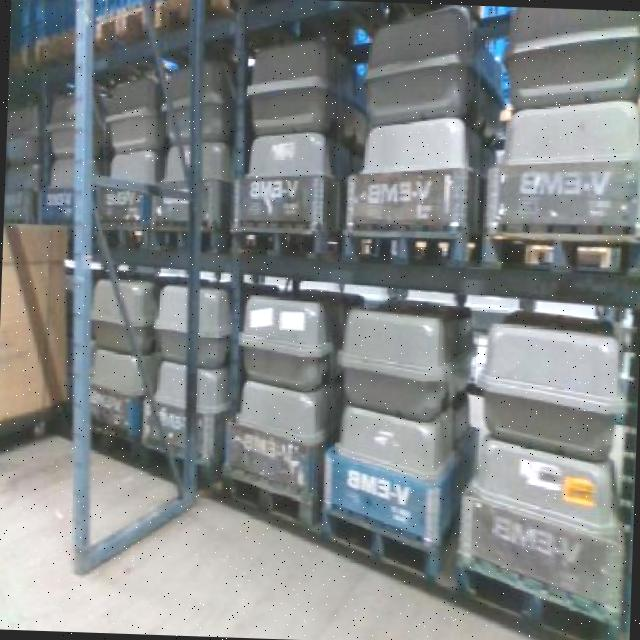pallet: (444, 536, 630, 640), (316, 491, 445, 598), (213, 456, 323, 552), (471, 224, 640, 285), (335, 216, 494, 271), (222, 214, 340, 264)
